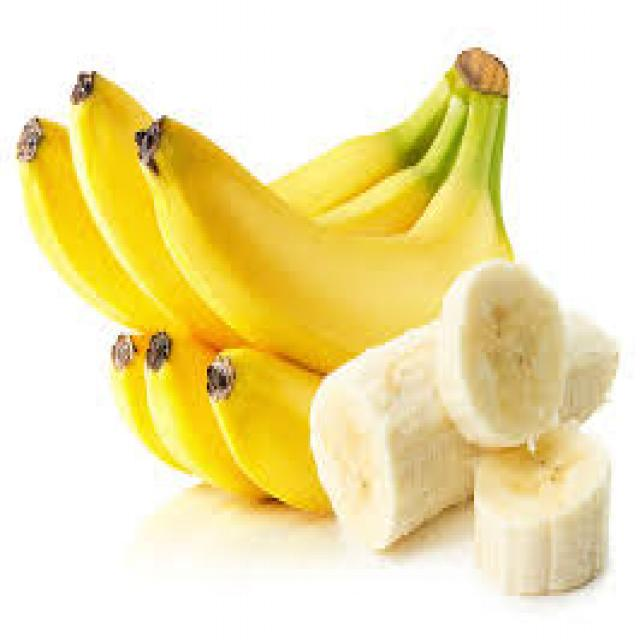organic waste: (65, 68, 503, 359), (132, 54, 498, 369), (306, 302, 616, 548), (205, 274, 388, 515), (14, 112, 204, 325), (144, 322, 286, 504), (433, 254, 561, 450), (469, 410, 606, 589), (108, 329, 217, 474)
